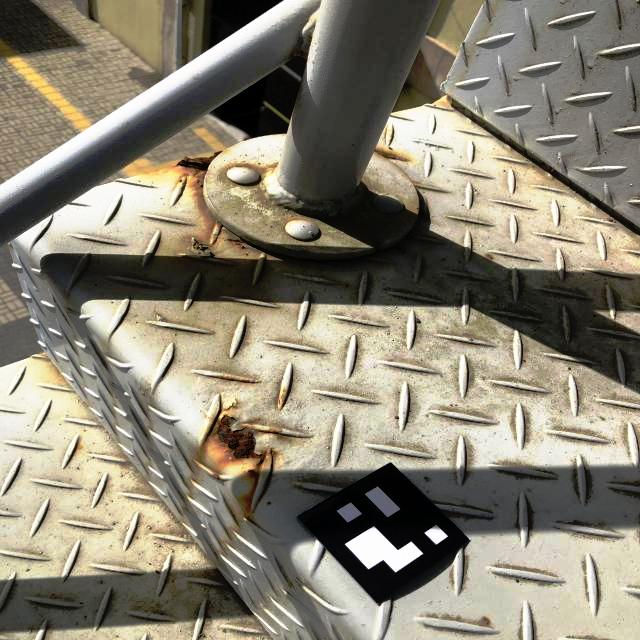Corrosion: (208, 414, 278, 476), (171, 151, 223, 171), (375, 146, 404, 160), (211, 474, 219, 480), (234, 164, 245, 167)
